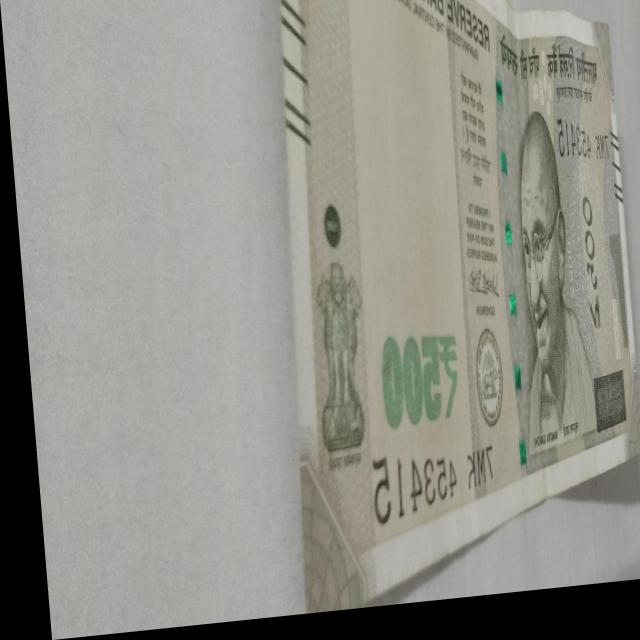Currency: (257, 0, 640, 547)
